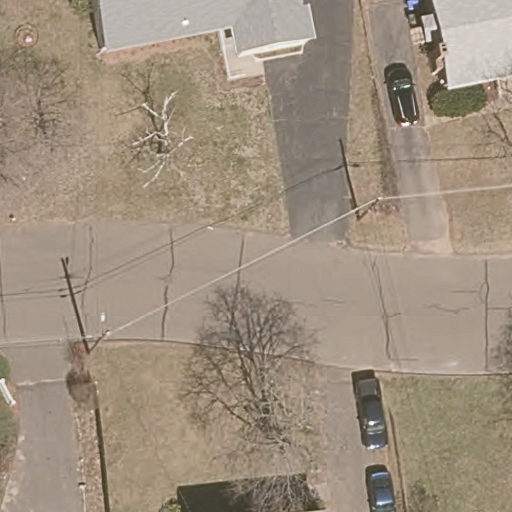DT: (87, 311, 112, 355), (356, 195, 383, 221)
